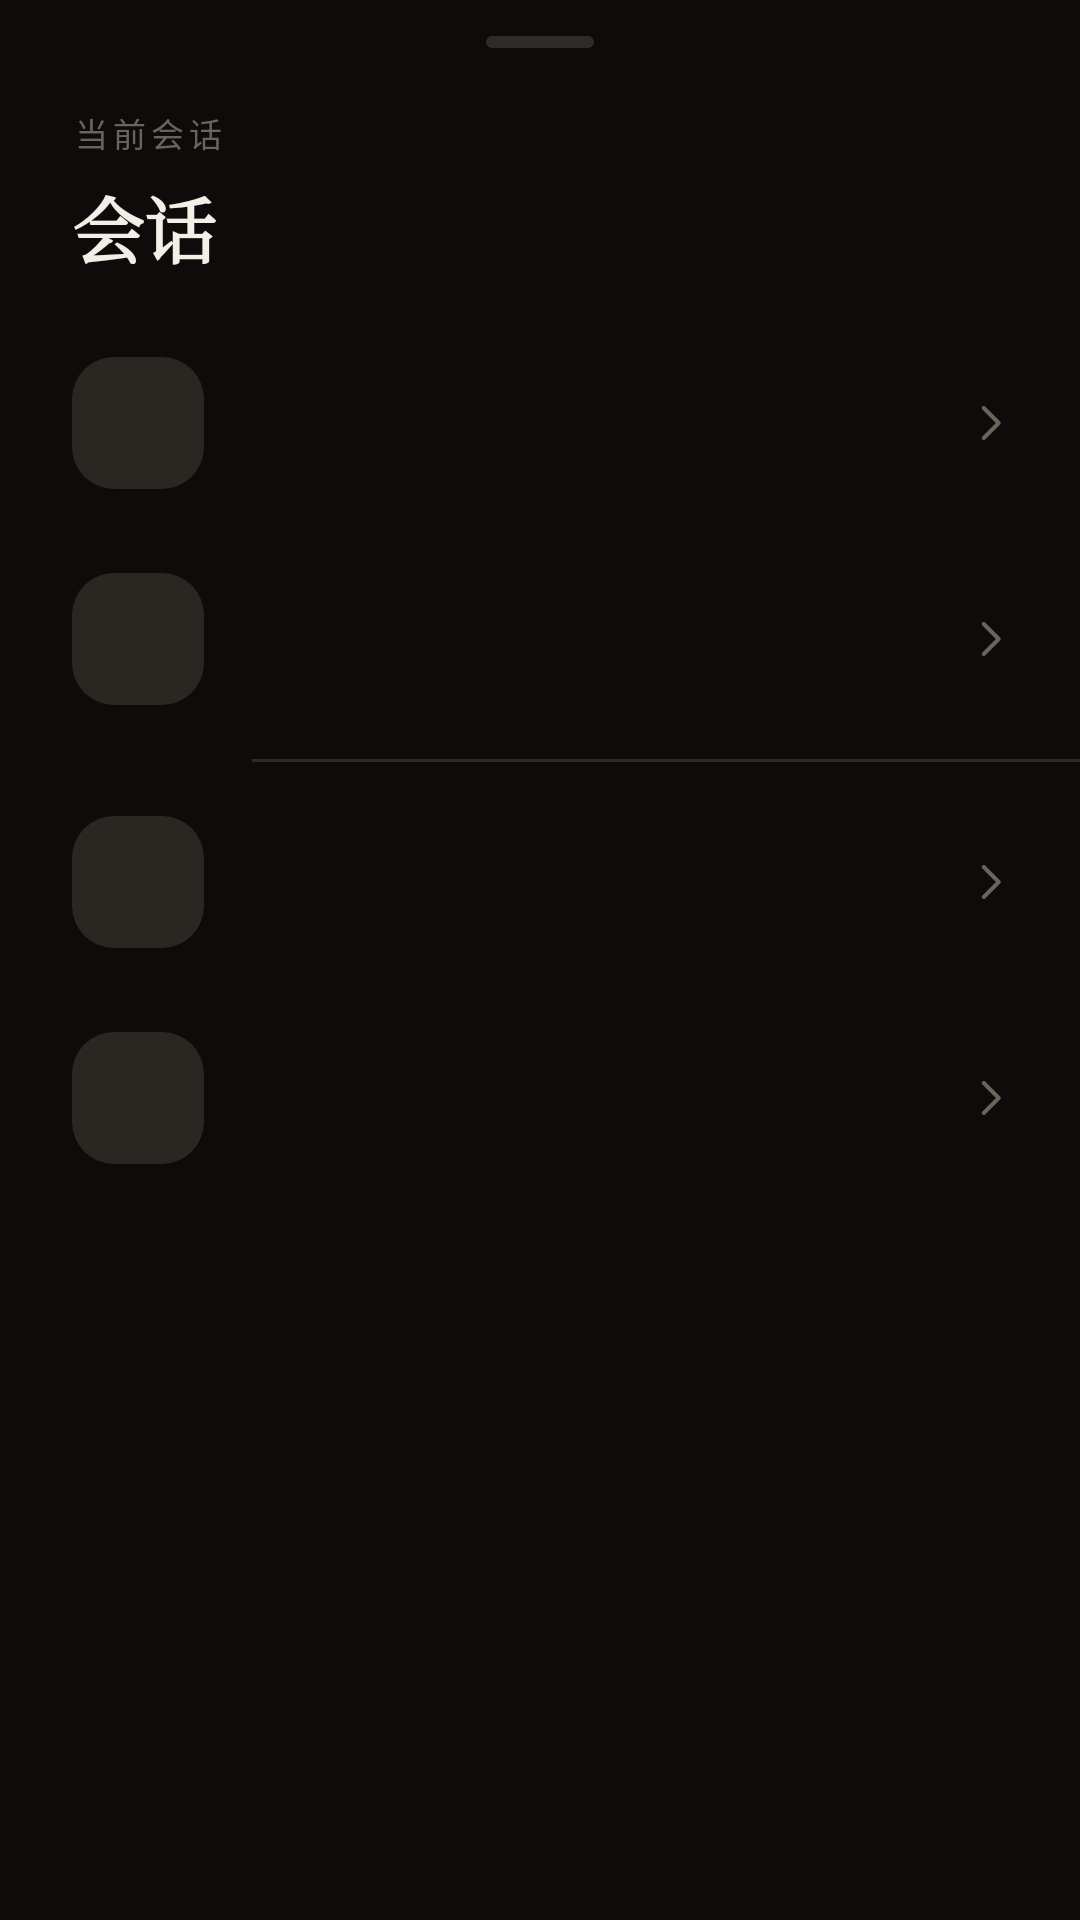

Screen size 1080px×1920px. Icon name, then its box in pixels as bbox=(x1, y1, x2, y2):
chevron right: bbox=(982, 406, 1001, 440), bbox=(982, 622, 1001, 656), bbox=(982, 865, 1001, 899), bbox=(982, 1081, 1001, 1115)
